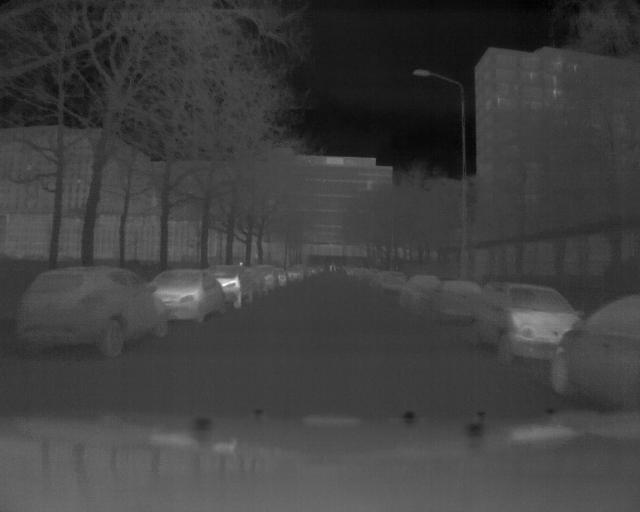car: (18, 268, 170, 357), (552, 293, 640, 403), (473, 281, 583, 364), (144, 268, 227, 324), (429, 279, 483, 324), (206, 265, 254, 307), (401, 275, 444, 312)
